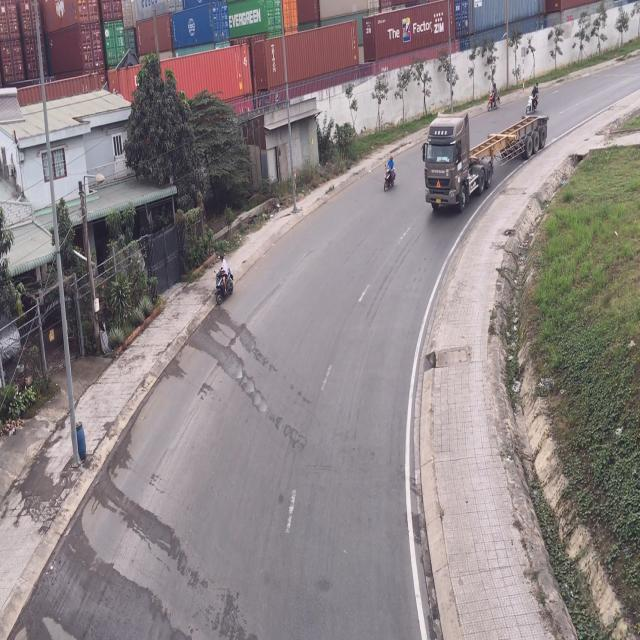motorbike: (214, 257, 234, 307), (384, 154, 397, 196), (487, 79, 500, 115)
truck: (425, 111, 549, 216), (525, 81, 541, 115)
